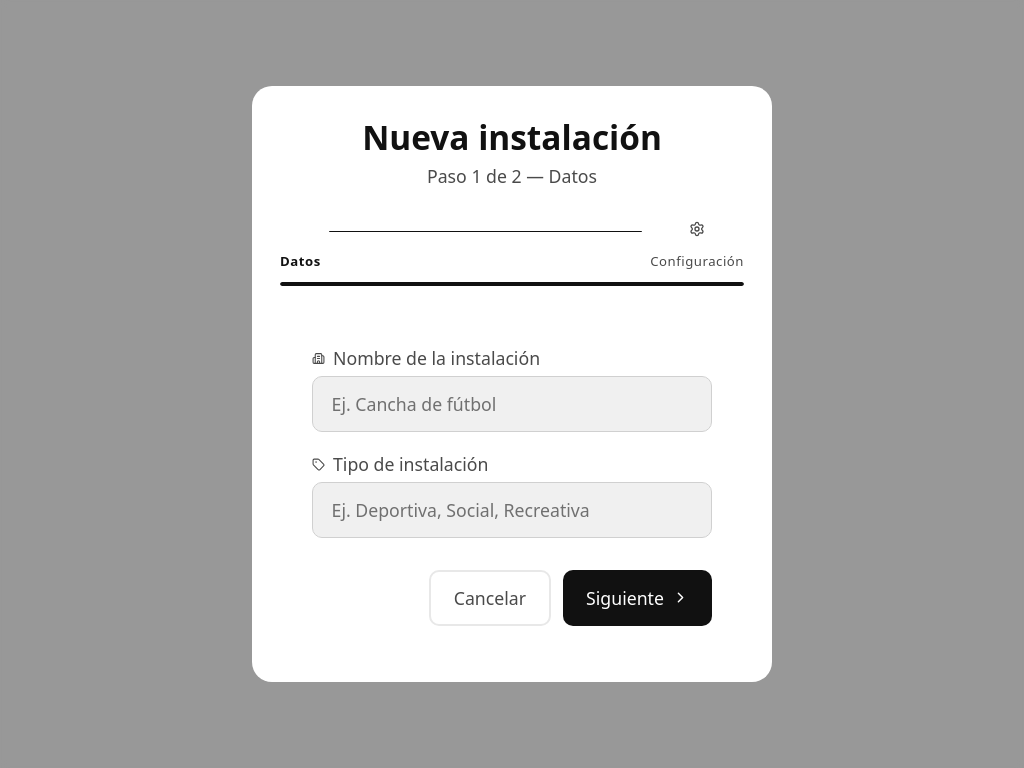
Test: CreateInstalacionForm › no avanza al paso 2 si el tipo está vacío
Step 1. Type "Cancha" into the field with placeholder "Ej. Cancha de fútbol" → {"x": 512, "y": 404}, box [312,376,712,432]
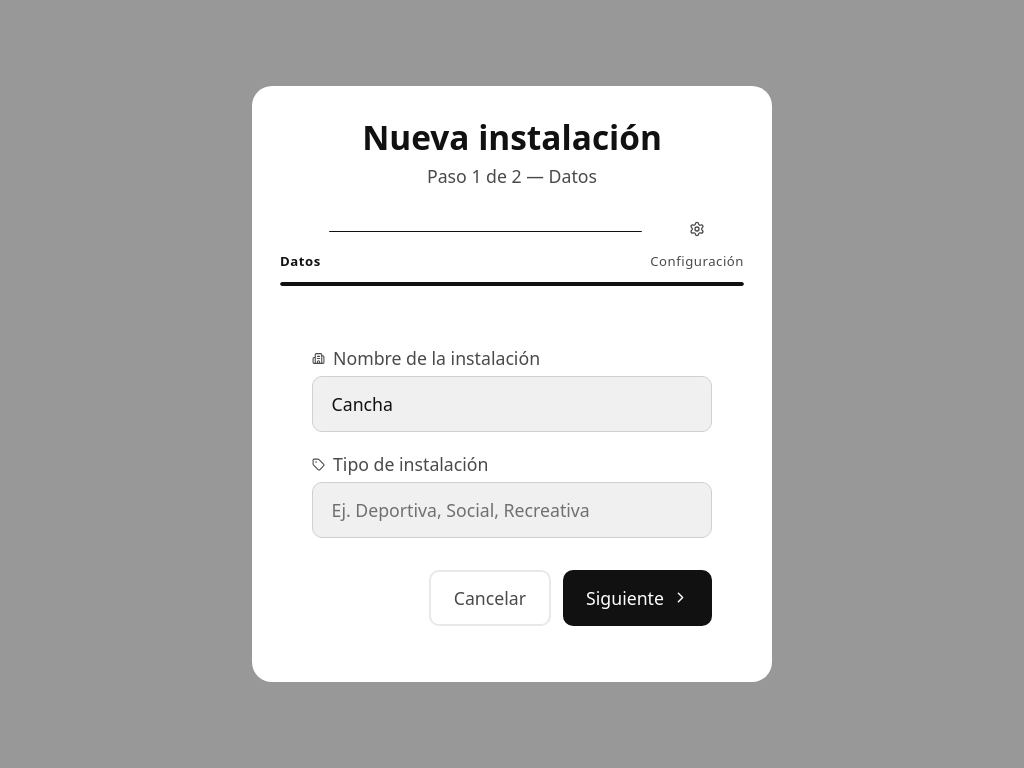
Step 2. Click the button "Siguiente" → {"x": 638, "y": 598}, box [563,570,712,626]
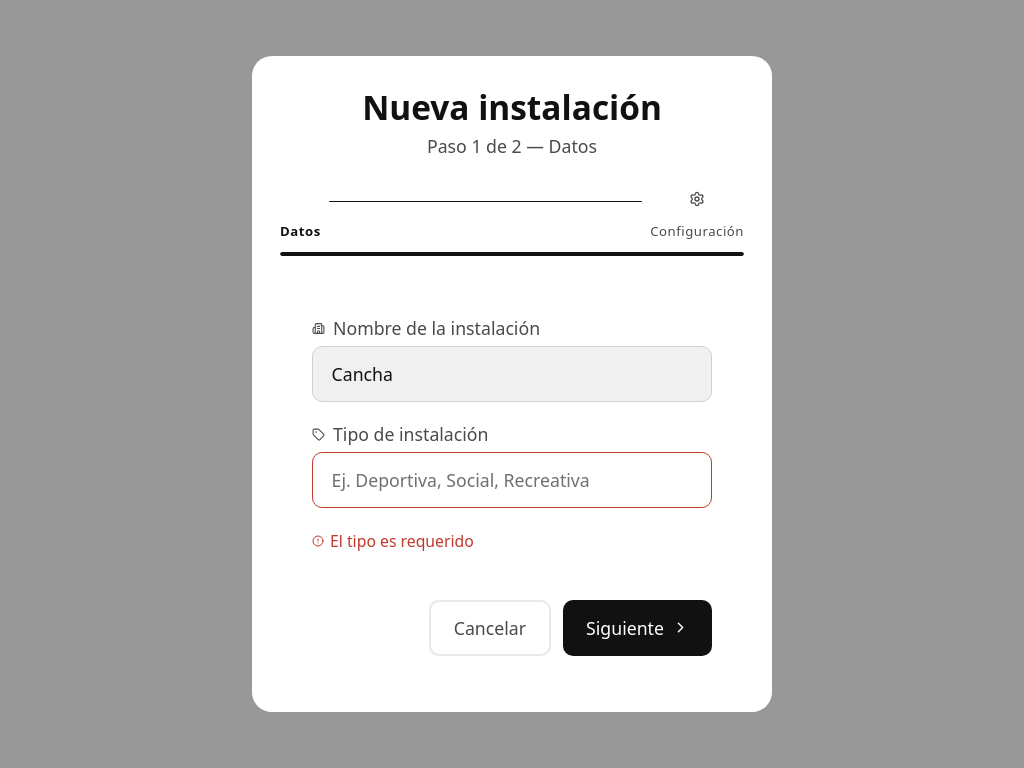
Expected: the text "Paso 1 de 2 — Datos" is shown, [427,134,597,158]
Now the text "El tipo es requerido" is shown, box [312,530,474,552]
